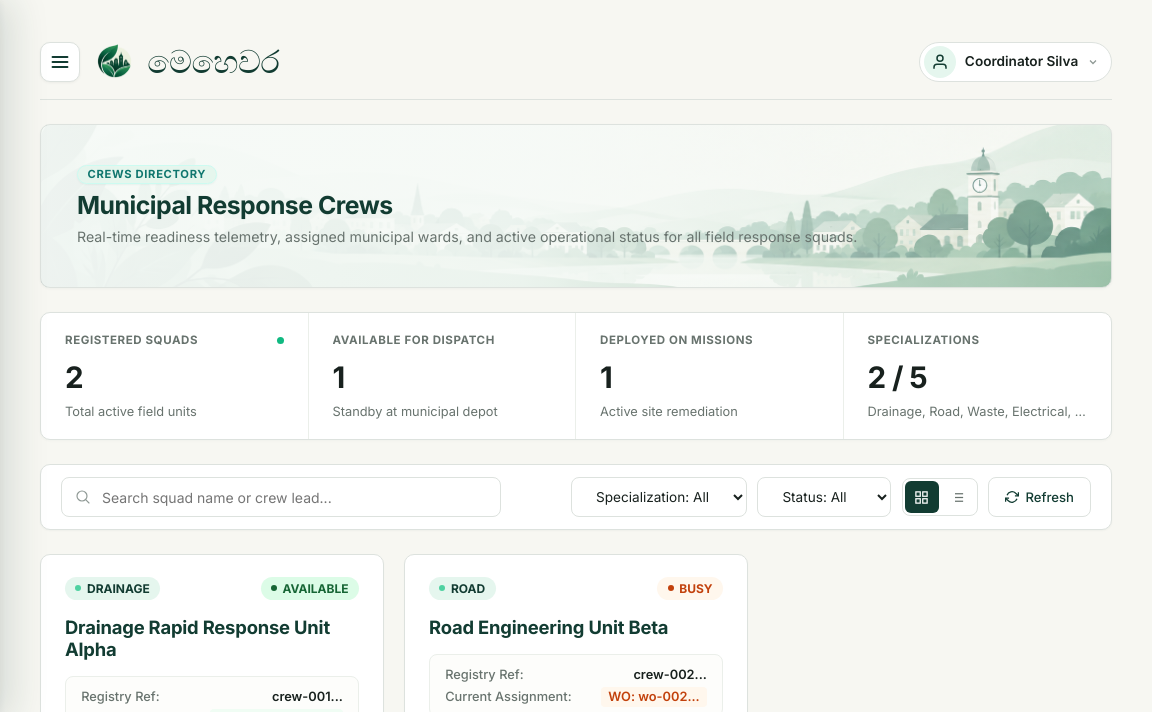
Test: CrewListPage Tests (Member 3) › opens crew detail modal upon clicking a squad card
Click the heading "Drainage Rapid Response Unit Alpha".
click(212, 638)  # box [65,616,359,660]
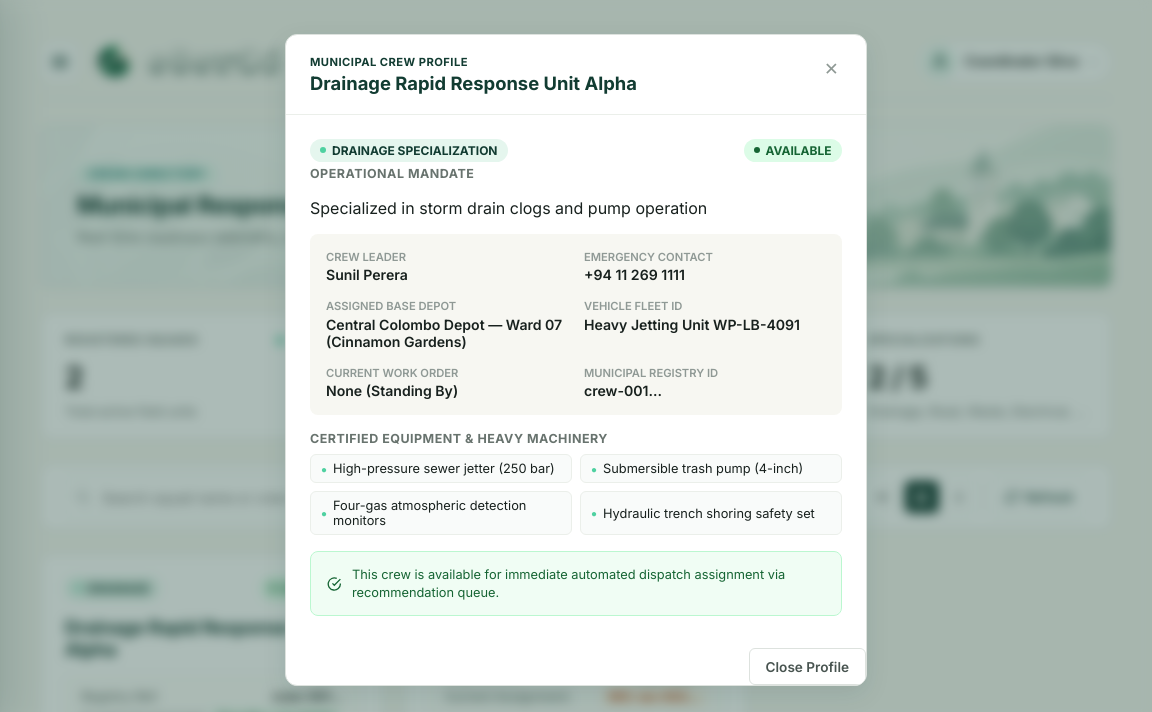
Expected: the text "Specialized in storm drain clogs and pump operation" is shown, [310,198,707,218]
